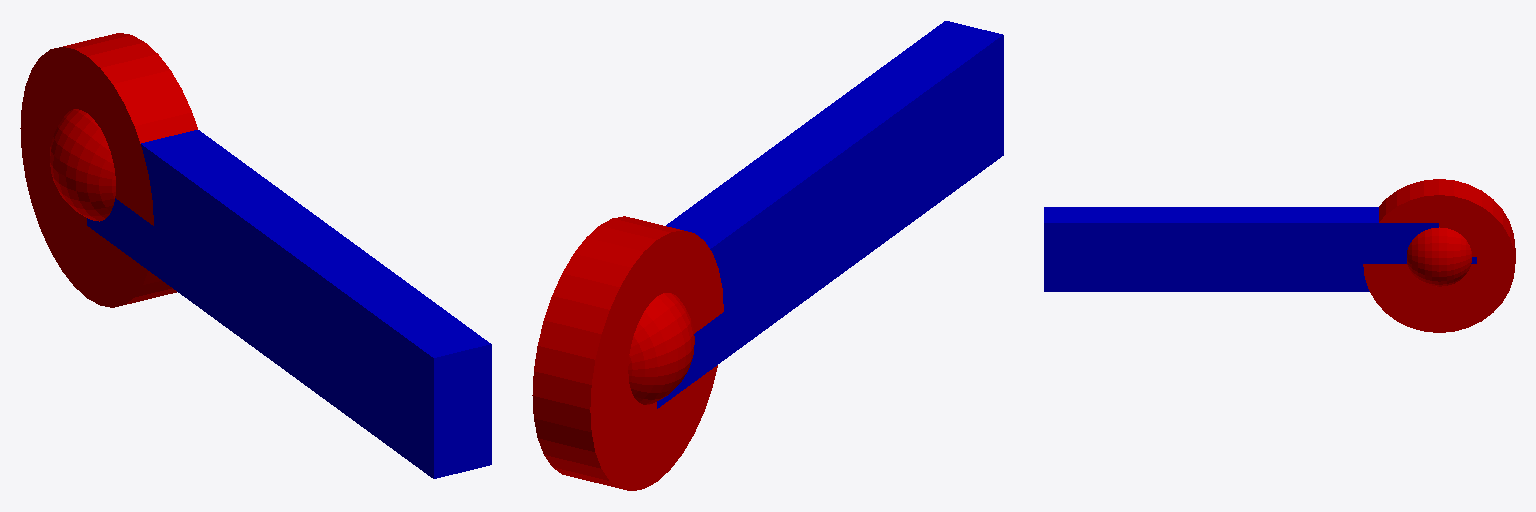
robot.urdf — TwoLinkStruct1669049075:
<?xml version="1.0"?>
<robot  name="TwoLinkStruct1669049075" >
 <material  name="blue" >
  <color  rgba="0 0 0.8 1.0" />
 </material>
 <material  name="red" >
  <color  rgba="0.8 0 0 1.0" />
 </material>
 <link  name="base_link" >
  <visual >
   <origin  rpy="0 1.5707 0"  xyz="0 0 0" />
   <material  name="red" />
   <geometry >
    <cylinder  length="0.05"  radius="0.1" />
   </geometry>
  </visual>
 </link>
 <joint  type="revolute"  name="joint1" >
  <parent  link="base_link" />
  <child  link="link1" />
  <origin  xyz="0 0 0"  rpy="0 0 0" />
  <axis  xyz="1 0 0" />
 </joint>
 <link  name="link1" >
  <inertial >
   <origin  rpy="0 0 0"  xyz="0 0 0.005" />
   <mass  value="0.02781406879425049" />
   <inertia  ixy="0.0"  iyy="1.1589195330937706e-05"  izz="6.026381572087606e-06"  ixz="0.0"  ixx="6.026381572087606e-06"  iyz="0.0" />
  </inertial>
  <visual >
   <origin  rpy="0 0 0"  xyz="0 0 0.005" />
   <material  name="blue" />
   <geometry >
    <box  size="0.05 0.1 0.01" />
   </geometry>
  </visual>
 </link>
 <joint  type="fixed"  name="joint-joint-1" >
  <parent  link="link1" />
  <child  link="joint-link-1" />
  <origin  xyz="0 0 0.01"  rpy="1.5707 0 0" />
  <axis  xyz="1 0 0" />
 </joint>
 <link  name="joint-link-1" >
  <inertial >
   <origin  rpy="0 0 0"  xyz="0 0 0" />
   <mass  value="3.5934936028496" />
   <inertia  ixy="0"  iyy="0"  izz="0"  ixz="0"  ixx="0"  iyz="0" />
  </inertial>
  <visual >
   <origin  rpy="0 0 0"  xyz="0 0 0" />
   <material  name="red" />
   <geometry >
    <sphere  radius="0.05" />
   </geometry>
  </visual>
 </link>
 <joint  type="revolute"  name="joint2" >
  <parent  link="link1" />
  <child  link="link2" />
  <origin  xyz="0 0 0.01"  rpy="1.5707 0 0" />
  <axis  xyz="1 0 0" />
 </joint>
 <link  name="link2" >
  <inertial >
   <origin  rpy="0 0 0"  xyz="0 0 0.2592335766837794" />
   <mass  value="1.4121920268026236" />
   <inertia  ixy="0.0"  iyy="1.1589195330937706e-05"  izz="0.0006288487197213897"  ixz="0.0"  ixx="0.0006288487197213897"  iyz="0.0" />
  </inertial>
  <visual >
   <origin  rpy="0 0 0"  xyz="0 0 0.2592335766837794" />
   <material  name="blue" />
   <geometry >
    <box  size="0.05 0.1 0.5184671533675588" />
   </geometry>
  </visual>
 </link>
 <joint  type="fixed"  name="eef_joint" >
  <parent  link="link2" />
  <child  link="eef" />
  <origin  xyz="0 0 0.5184671533675588"  rpy="0 0 0" />
 </joint>
 <link  name="eef" >
  <inertial >
   <origin  rpy="0 0 0"  xyz="0 0 0" />
   <mass  value="1" />
   <inertia  ixy="0"  iyy="0"  izz="0"  ixz="0"  ixx="0"  iyz="0" />
  </inertial>
 </link>
 <transmission  name="motor1" >
  <type  xmltext="SimpleTransmission" >
   SimpleTransmission
  </type>
  <actuator  name="motor1" >
   <mechanicalreduction  xmltext="1" >
    1
   </mechanicalreduction>
  </actuator>
  <joint  name="joint1" />
 </transmission>
 <transmission  name="motor2" >
  <type  xmltext="SimpleTransmission" >
   SimpleTransmission
  </type>
  <actuator  name="motor2" >
   <mechanicalreduction  xmltext="1" >
    1
   </mechanicalreduction>
  </actuator>
  <joint  name="joint2" />
 </transmission>
</robot>

<!-- {'carti': array([-0.1 ,  0.14,  0.85]), 'cartd': array([-0.1 ,  0.32,  1.29]), 'tau_mu': 1.0, 'b0': 0.1187588391971219, 'Km': 0.8841138942489823, 'k_velocity': 55.87053113148985, 'tau_max_m': 3.3253156712491565, 'omega_max_m': 1000.0, 'gear_ratio': 18.318694219260877, 'Kp': 8.904365376158406, 'Kd': 96.10368885258846, 'm_m': 3.5934936028496, 'l1': 0.01, 'l2': 0.5184671533675588, 'k1': 24263.6549128361, 'k2': 9565570.280758858, 'k3': 365004485.50689363}-->

--- Facts derived from the render (not from the file) ---
3 views of the same robot in one strip: view 1: azimuth 30°, elevation 25°; view 2: azimuth 150°, elevation 25°; view 3: azimuth 270°, elevation 25° (orthographic).
Robot: TwoLinkStruct1669049075 — 5 links, 4 joints (2 revolute, 2 fixed); root link base_link; default pose: all joints at 0.
Visible links, largest first — view 1: link2, base_link, joint-link-1; view 2: link2, base_link, joint-link-1; view 3: link2, base_link, joint-link-1.
Boxes of the visible links, <box> form: link2: <box>87,130,491,478</box>; base_link: <box>20,33,197,307</box>; joint-link-1: <box>50,109,115,221</box>; link2: <box>657,21,1003,408</box>; base_link: <box>532,216,723,490</box>; joint-link-1: <box>628,293,694,404</box>; link2: <box>1044,207,1438,291</box>; base_link: <box>1363,179,1515,332</box>; joint-link-1: <box>1407,227,1471,286</box>.
Size in the robot's own frame: 0.1 by 0.6185 by 0.2 metres.
Geometry: primitives only (box / cylinder / sphere), no mesh files.